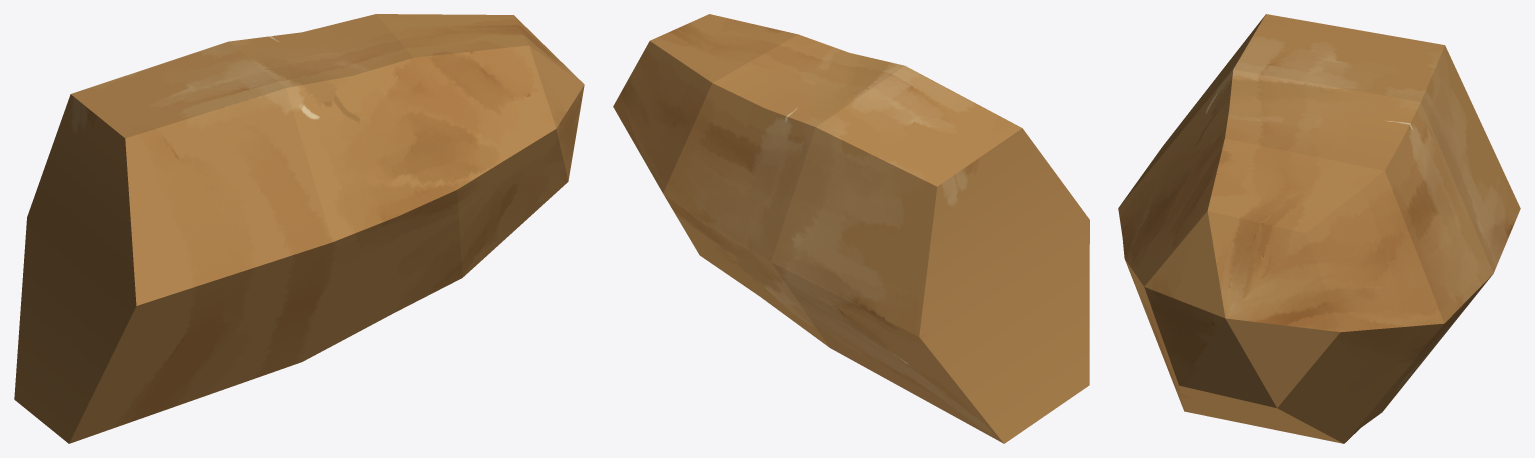
Rendered from Branch_addon.fbx.
3 views of the same model, side by side, from view 1: azimuth 30°, elevation 25°; view 2: azimuth 150°, elevation 25°; view 3: azimuth 270°, elevation 25° (orthographic). The views are drawn at different scales.
Parts seen in each view (by area): view 1: pSphere1; view 2: pSphere1; view 3: pSphere1.
Boxes of the visible parts, x1,y1,x2,y2 form: pSphere1: (14,14,584,443); pSphere1: (613,14,1089,443); pSphere1: (1118,14,1520,443).
Bounding box in the file's own units: 1.36 × 0.8327 × 0.7884.
